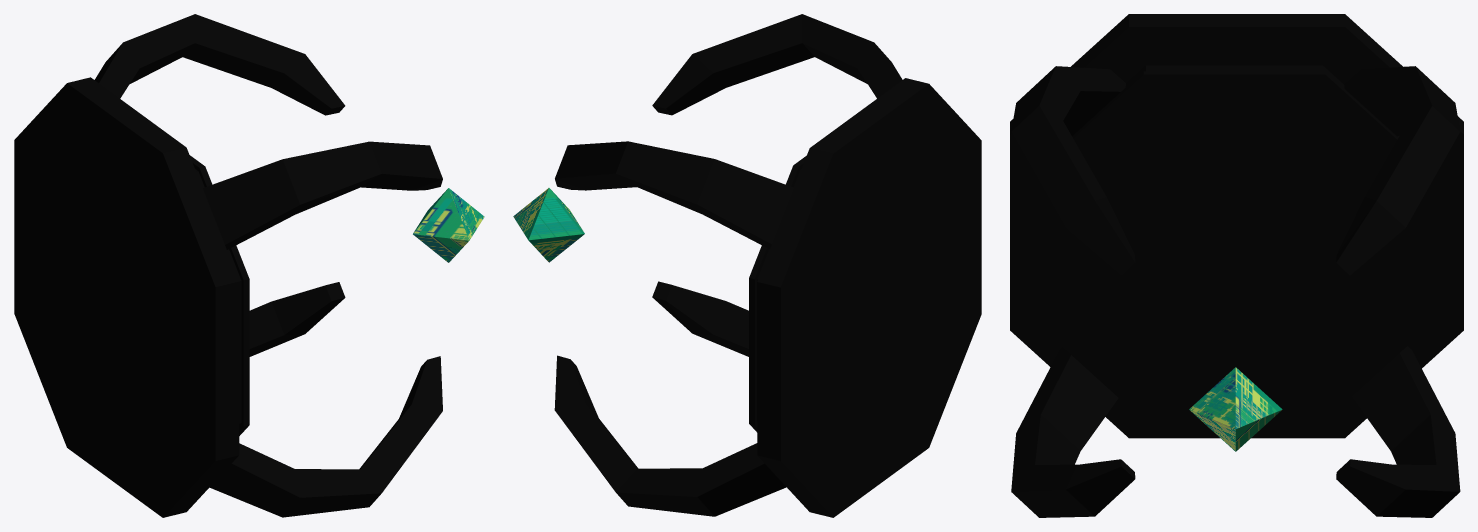
3 views of the same model, side by side, from view 1: azimuth 30°, elevation 25°; view 2: azimuth 150°, elevation 25°; view 3: azimuth 270°, elevation 25° (orthographic). The views are drawn at different scales.
Parts seen in each view (by area): view 1: 平面.001, 立方体, 立方体.001, 平面.003, 平面.002; view 2: 平面.001, 立方体, 立方体.001, 平面.003; view 3: 平面.003, 立方体, 平面.001, 立方体.001, 平面.002.
Part boxes in pixels (left/top/right/bottom): 平面.001: left=14, top=77, right=239, bottom=517; 立方体: left=95, top=14, right=442, bottom=517; 立方体.001: left=413, top=188, right=484, bottom=262; 平面.003: left=189, top=155, right=249, bottom=435; 平面.002: left=195, top=169, right=241, bottom=424; 平面.001: left=757, top=78, right=981, bottom=517; 立方体: left=554, top=14, right=902, bottom=516; 立方体.001: left=513, top=188, right=584, bottom=262; 平面.003: left=749, top=155, right=806, bottom=432; 平面.003: left=1043, top=71, right=1425, bottom=420; 立方体: left=1011, top=66, right=1460, bottom=517; 平面.001: left=1010, top=14, right=1463, bottom=438; 立方体.001: left=1189, top=367, right=1282, bottom=451; 平面.002: left=1125, top=65, right=1399, bottom=137.
Bounding box in the file's own units: 1654 × 1566 × 1561.
